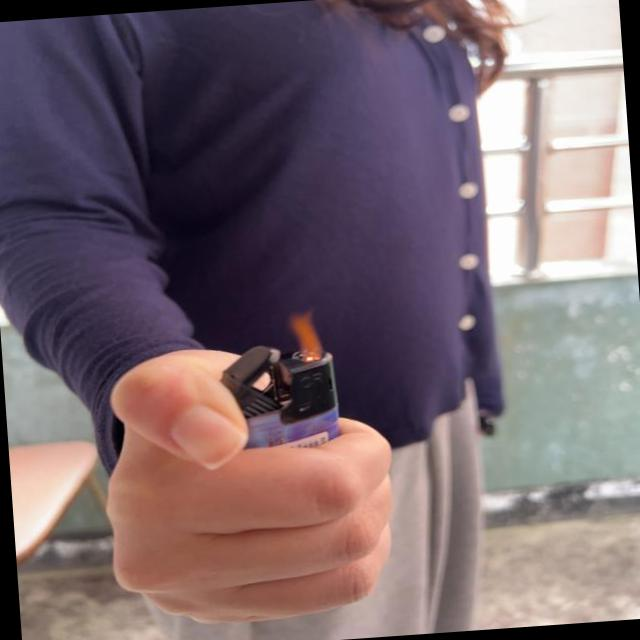Fire: (286, 306, 324, 362)
